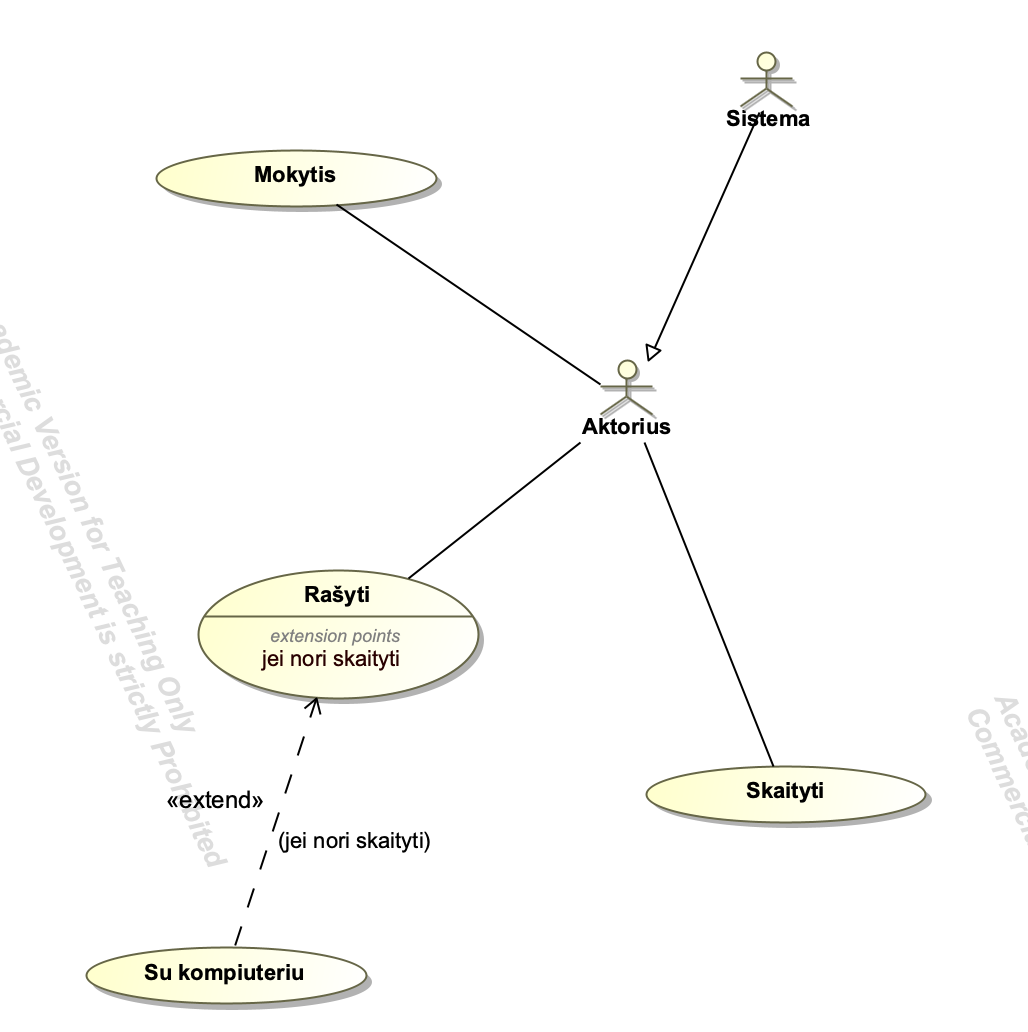actor: (733, 48, 799, 111), (600, 357, 660, 416)
association: (340, 205, 601, 387), (643, 440, 771, 762), (412, 441, 579, 575), (237, 697, 324, 943)
generalization: (645, 124, 756, 360)
text: (254, 625, 420, 680), (139, 960, 309, 993), (279, 828, 437, 859), (740, 772, 835, 810), (247, 158, 342, 192), (162, 789, 269, 815), (296, 581, 380, 613), (725, 106, 819, 133), (577, 415, 676, 440)
use_case: (194, 567, 481, 704), (82, 943, 372, 1010), (643, 763, 930, 826), (152, 148, 442, 209)
